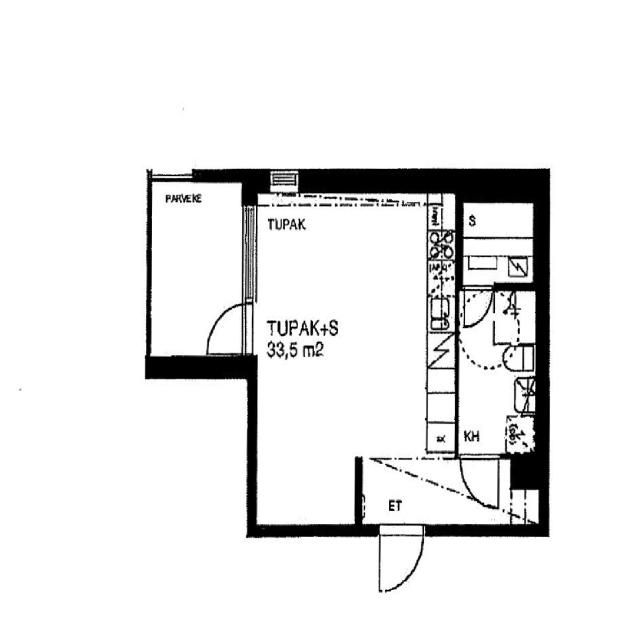door: (374, 522, 432, 598), (453, 449, 505, 514), (203, 299, 254, 353), (458, 283, 496, 330)
window: (235, 196, 262, 306), (267, 165, 303, 193)
zone: (246, 192, 450, 501), (147, 178, 249, 366), (455, 282, 542, 463), (460, 196, 538, 284)
